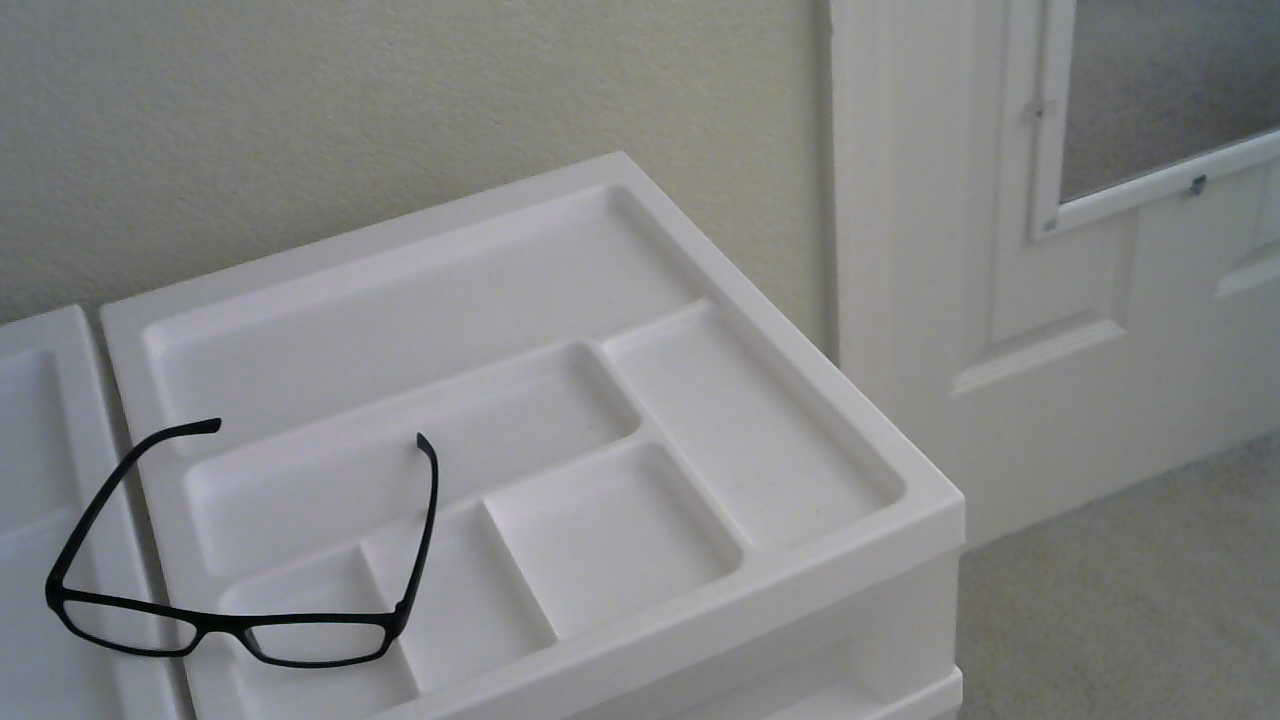Glasses: (55, 355, 448, 671)
